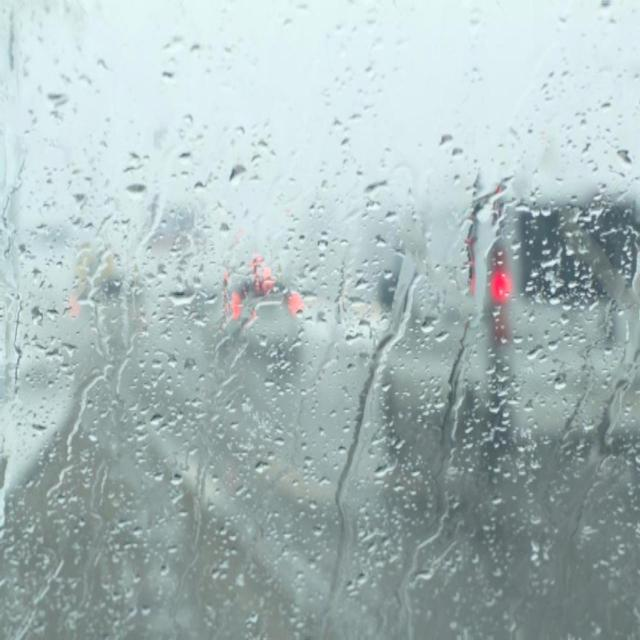Car: (218, 260, 314, 375)
Van: (379, 174, 640, 505)
